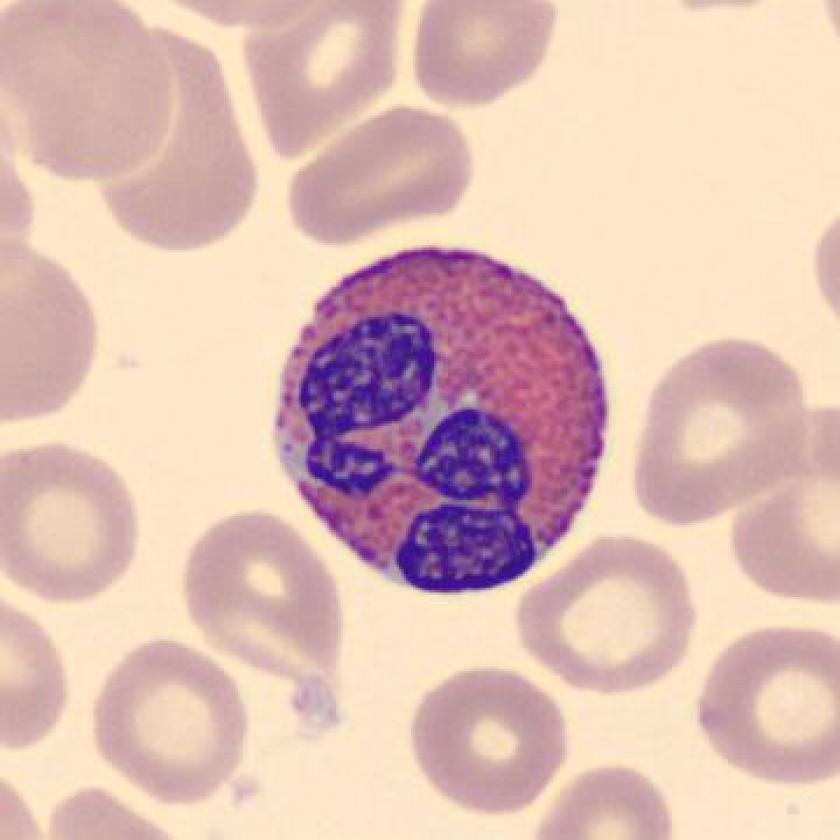eosinophil: (265, 237, 617, 612)
